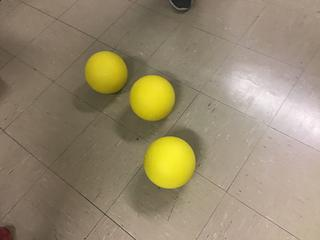power_cell: (142, 131, 198, 191), (81, 50, 136, 100), (124, 74, 178, 124)
